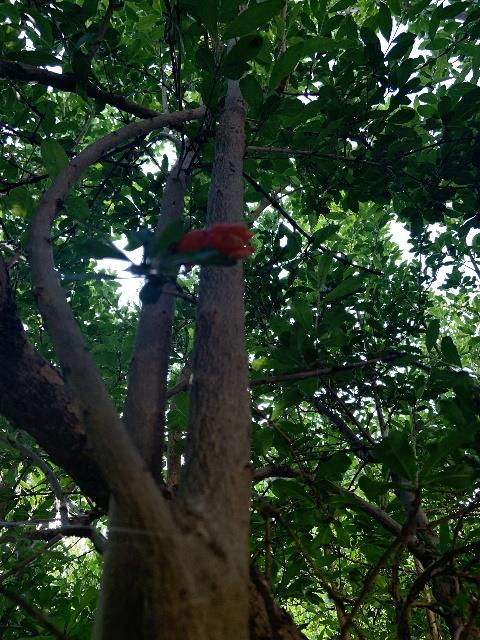flower: (175, 222, 255, 260)
